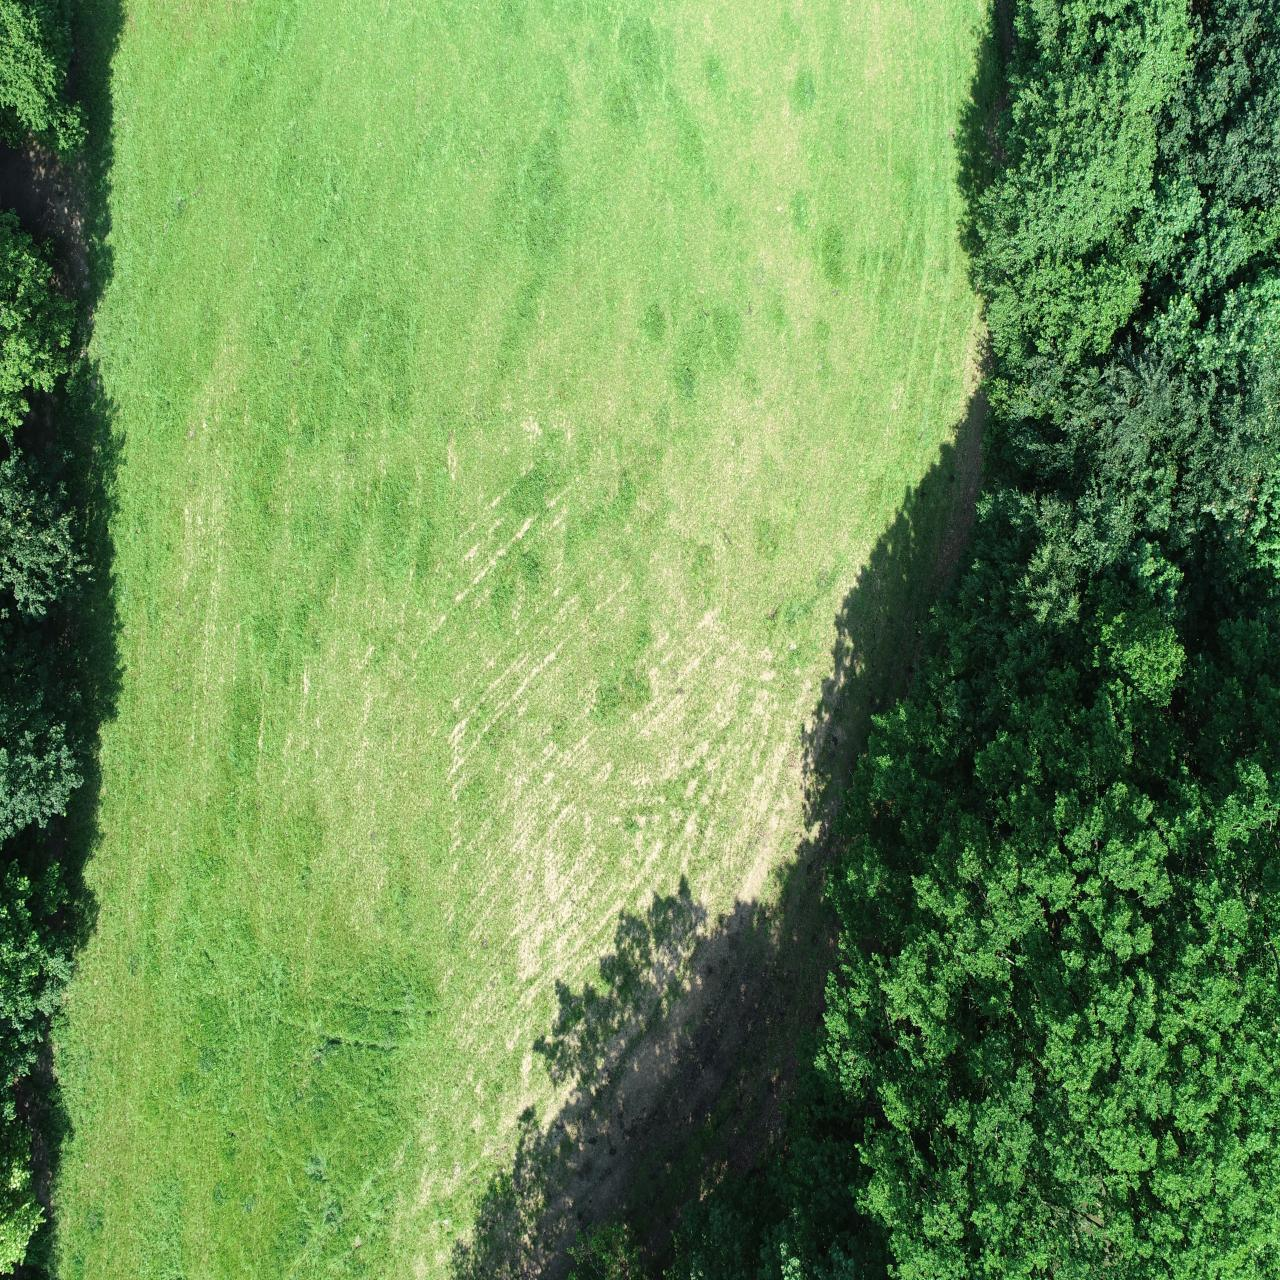cow: (798, 774, 824, 821), (79, 862, 109, 900), (768, 655, 785, 707)
